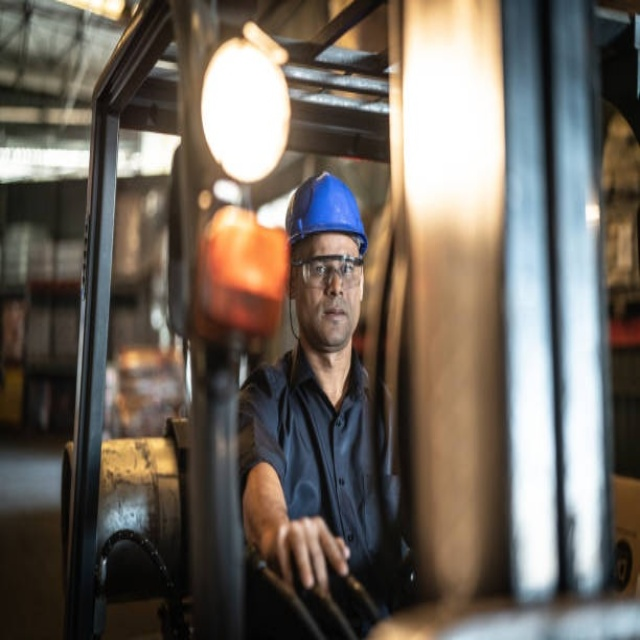Gafas: (292, 256, 364, 288)
Sin_guantes: (270, 513, 351, 594)
Sin_mascara: (319, 303, 347, 337)
